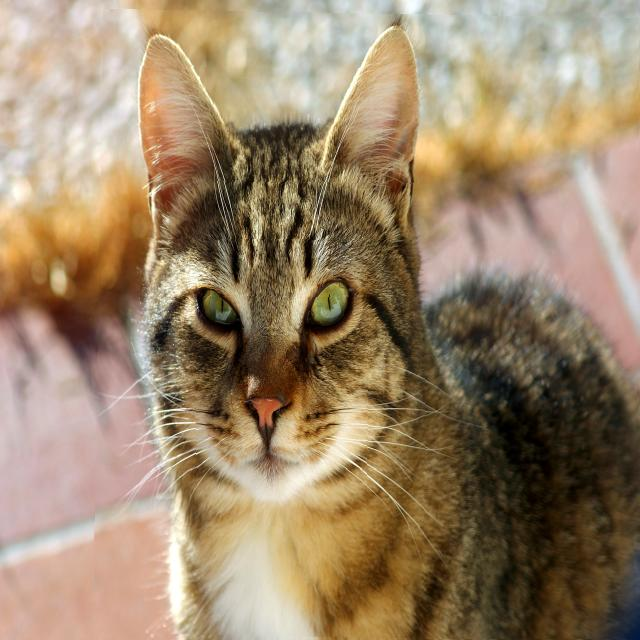cat: (96, 11, 640, 640)
